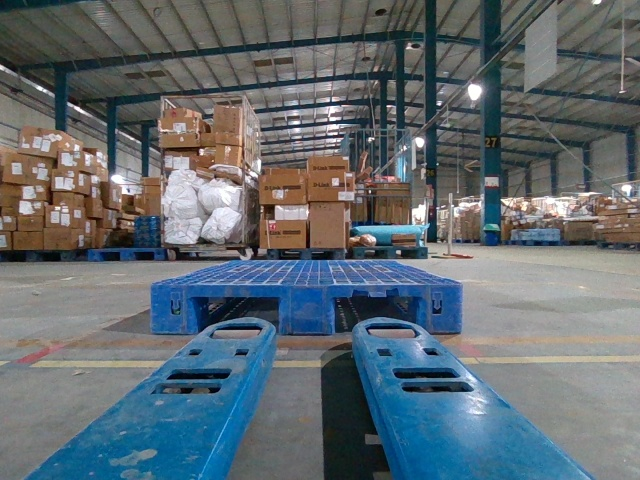block: (279, 285, 335, 338), (149, 284, 200, 335), (423, 284, 464, 336)
front: (145, 284, 464, 336)
hole pallet: (334, 296, 419, 338), (197, 296, 281, 334)
